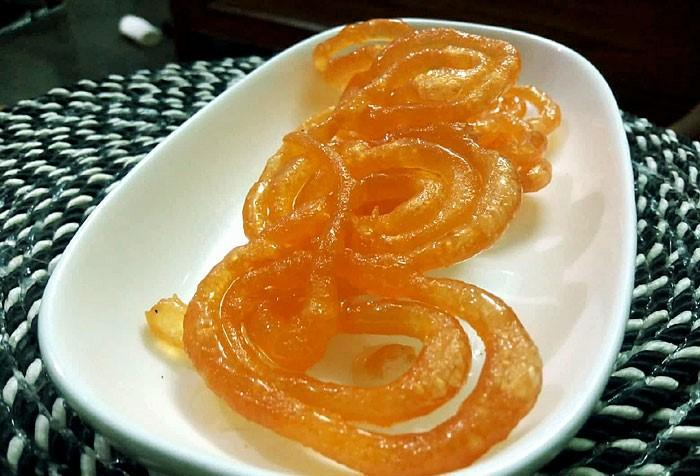Jalebi: (145, 15, 562, 476)
